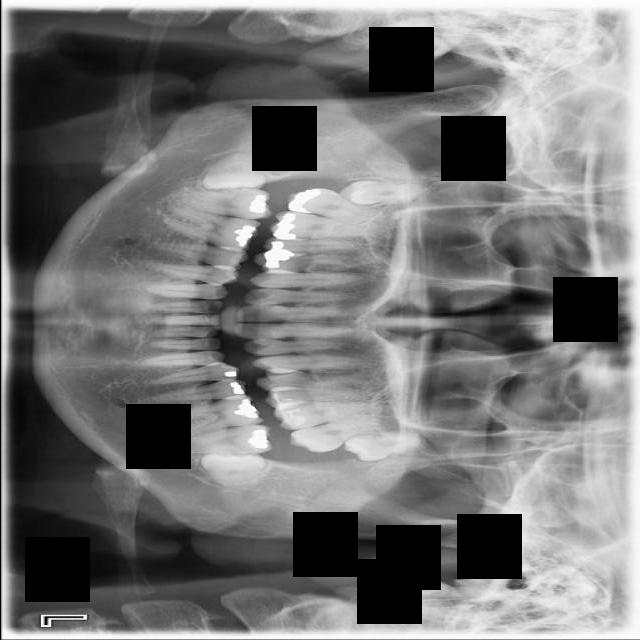3M ESPE Implant: (337, 177, 423, 206)
52: (215, 389, 261, 434), (225, 423, 272, 457), (269, 212, 317, 241), (284, 188, 335, 215), (254, 250, 300, 273), (211, 378, 246, 401), (265, 235, 306, 252), (205, 361, 238, 382), (226, 392, 253, 403)
73: (60, 612, 74, 620)
BioHorizons Implant: (286, 414, 385, 457)
BioLife Implant: (341, 427, 423, 465)
Biomet 3i Implant: (199, 449, 264, 491)
Blue Sky Bio Implant: (181, 424, 271, 456)
Caries: (285, 181, 389, 231)
Implant: (166, 188, 271, 221)
Keystone Dental Implant: (202, 152, 263, 191)
